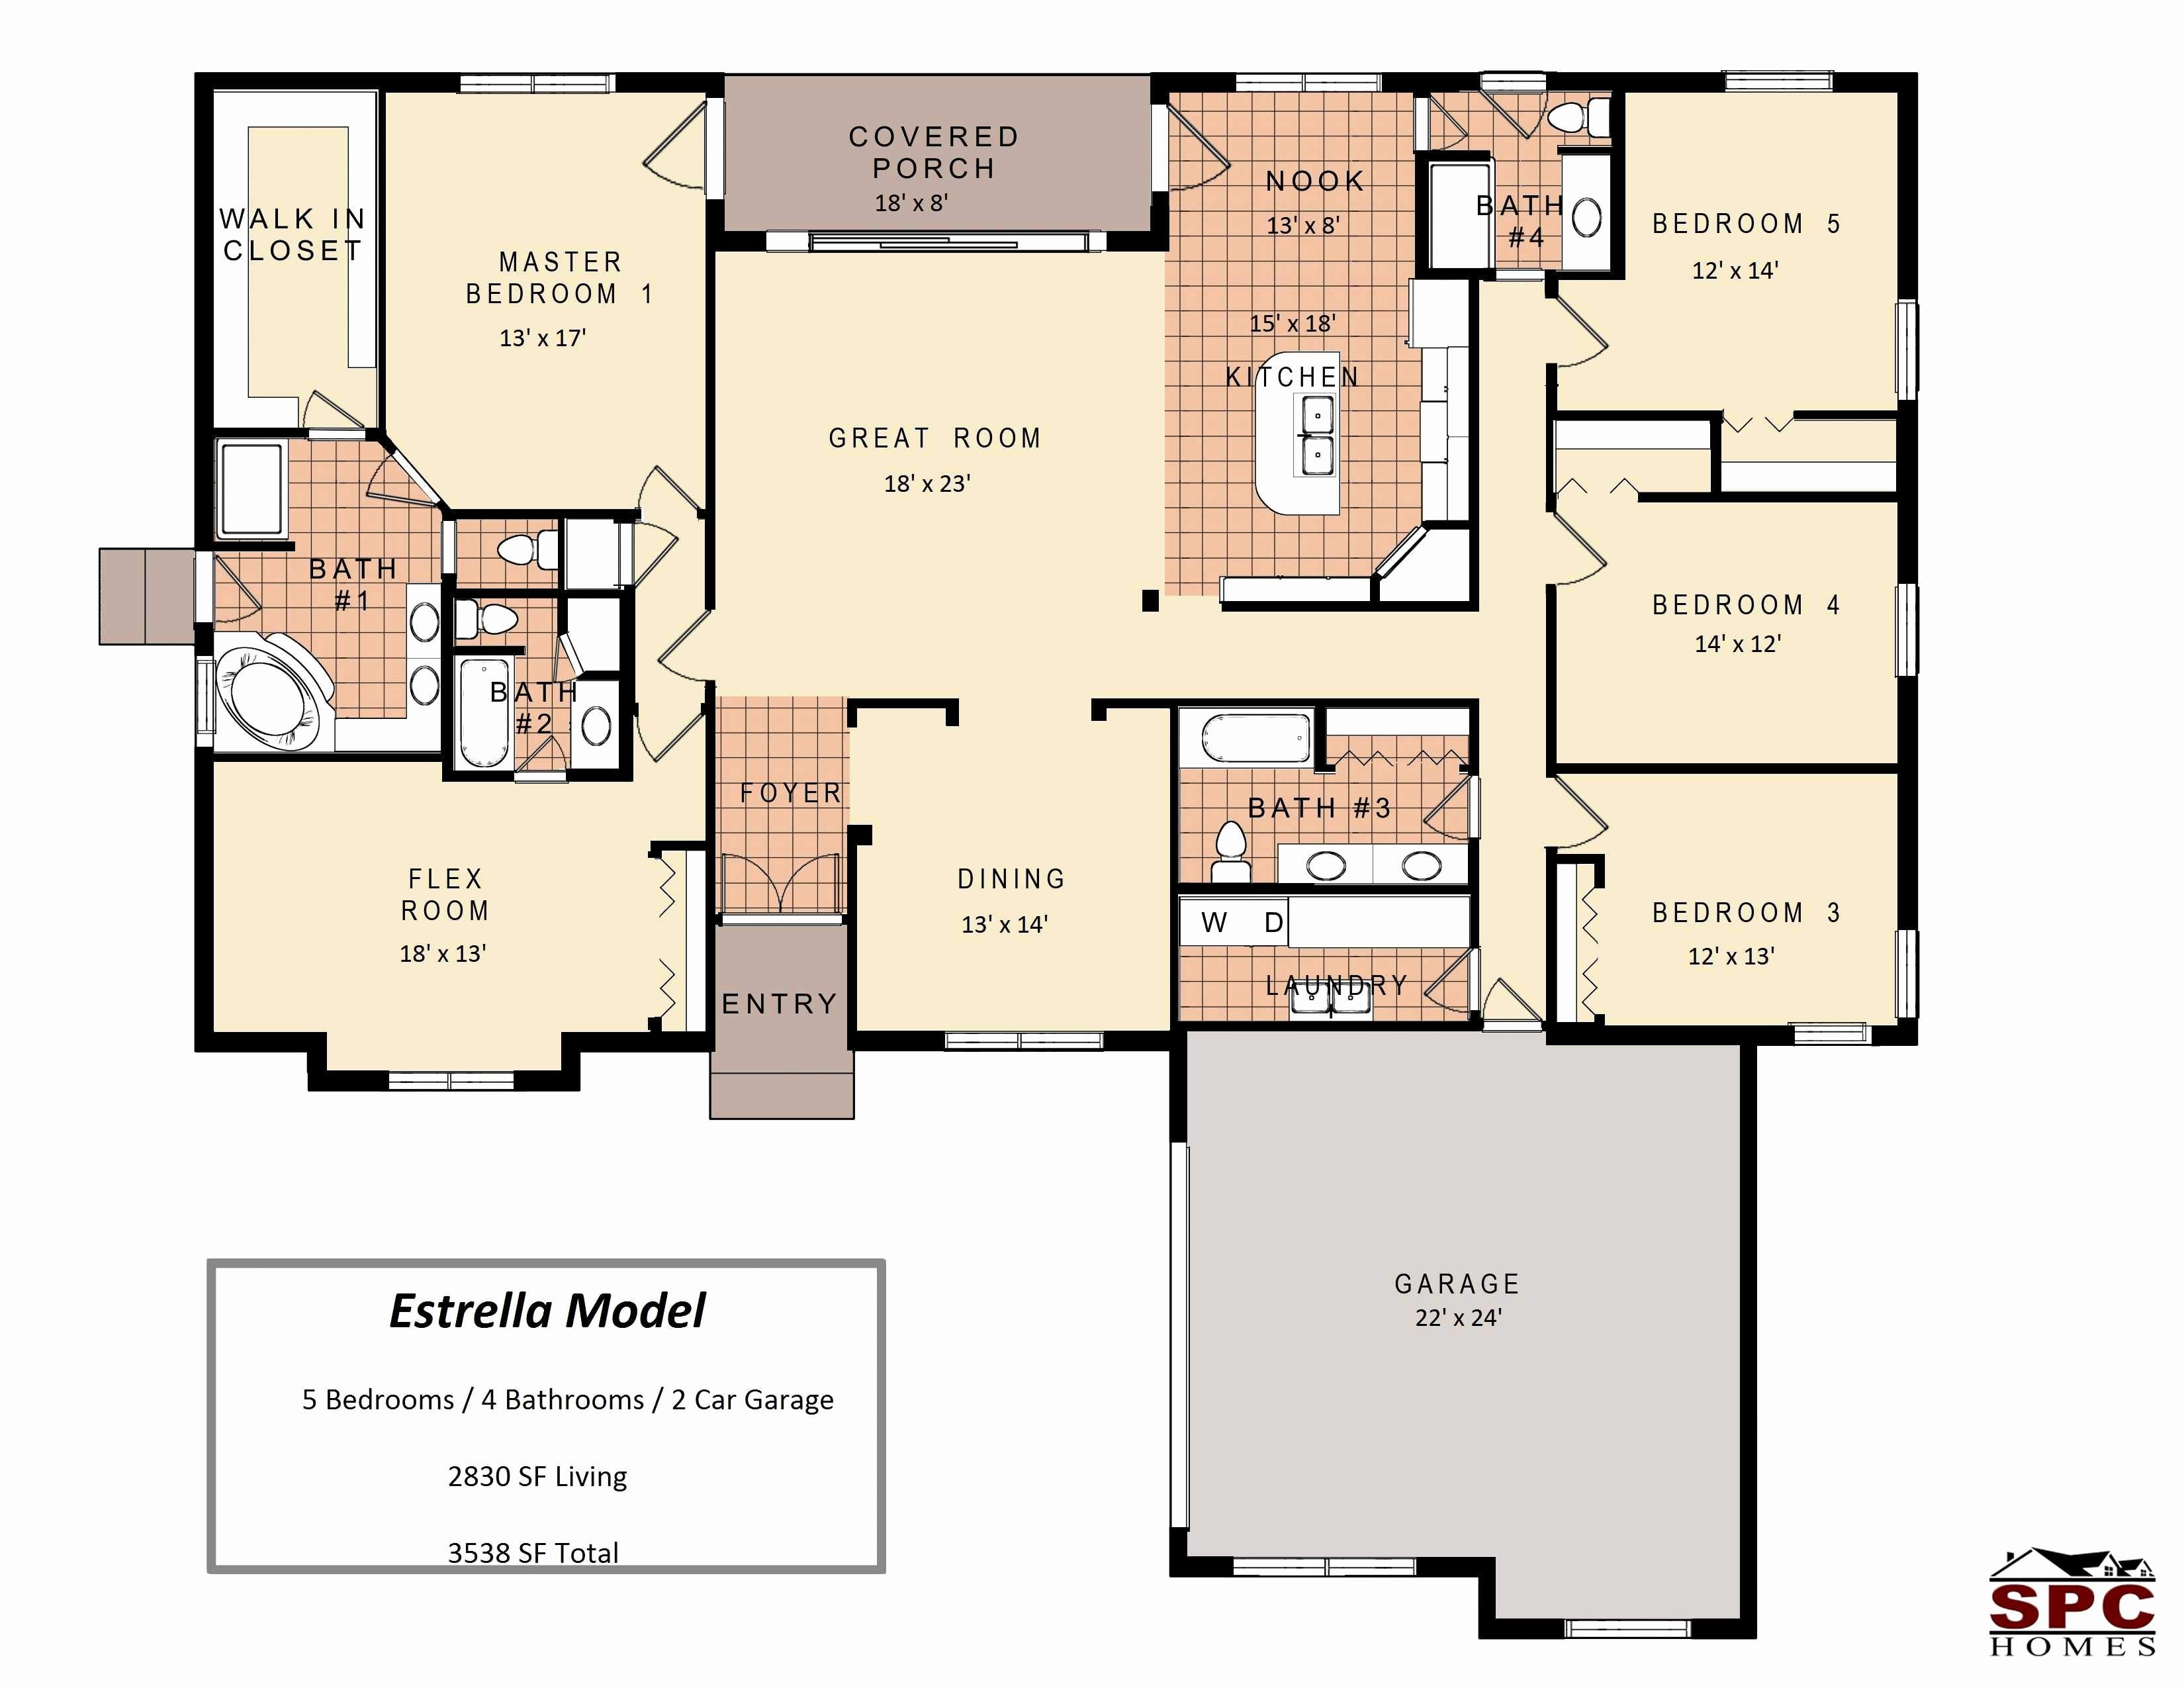door: (649, 612, 713, 693), (642, 112, 697, 199), (633, 713, 707, 775), (1179, 113, 1236, 193), (1567, 298, 1618, 383), (300, 385, 358, 431), (633, 456, 690, 502), (1439, 101, 1477, 147)
room: (172, 746, 723, 1114), (372, 51, 729, 509), (838, 677, 1188, 1051), (1542, 761, 1939, 1055), (1165, 690, 1489, 1037), (1539, 489, 1930, 777), (191, 422, 457, 770), (436, 502, 643, 789), (1411, 59, 1634, 285)
window: (762, 223, 1110, 264), (941, 1023, 1108, 1064), (456, 66, 619, 103), (385, 1064, 518, 1108), (1234, 62, 1385, 96), (1721, 66, 1837, 105), (1888, 580, 1925, 679), (1787, 1014, 1876, 1055), (1891, 296, 1922, 404), (1890, 927, 1923, 1020)
